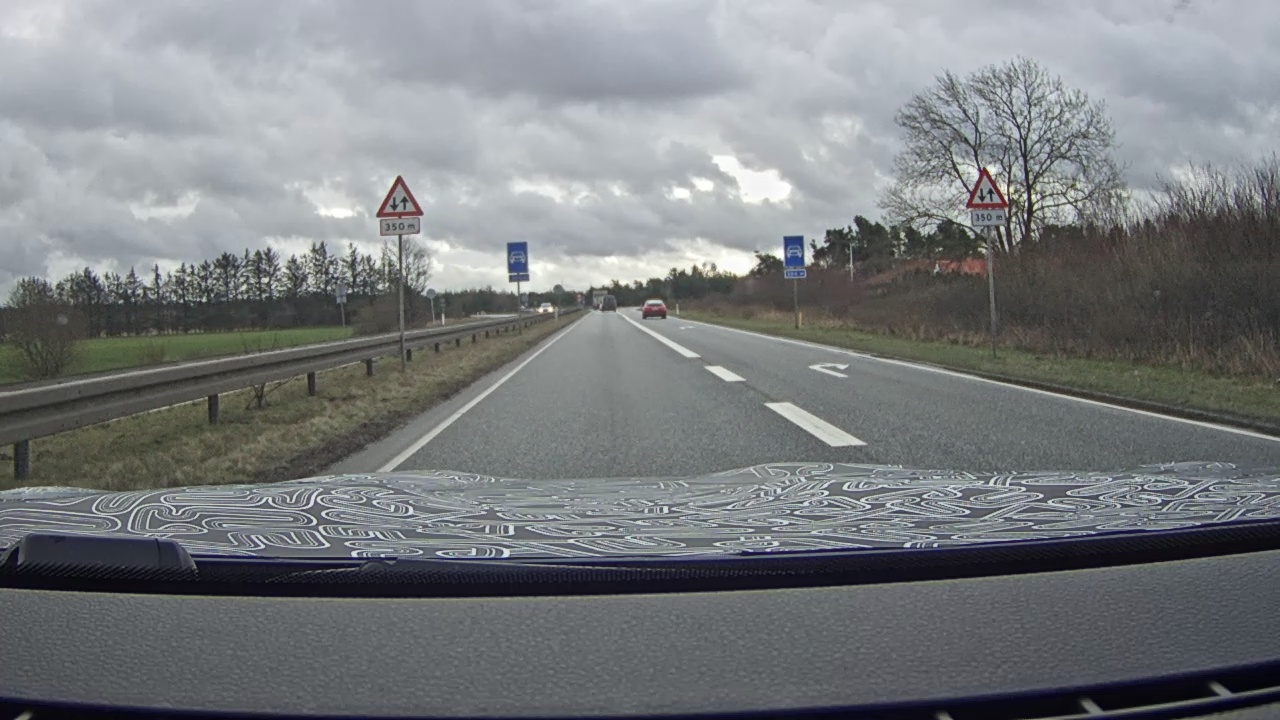Expressway_Begin: (506, 241, 529, 274), (782, 235, 805, 268)
